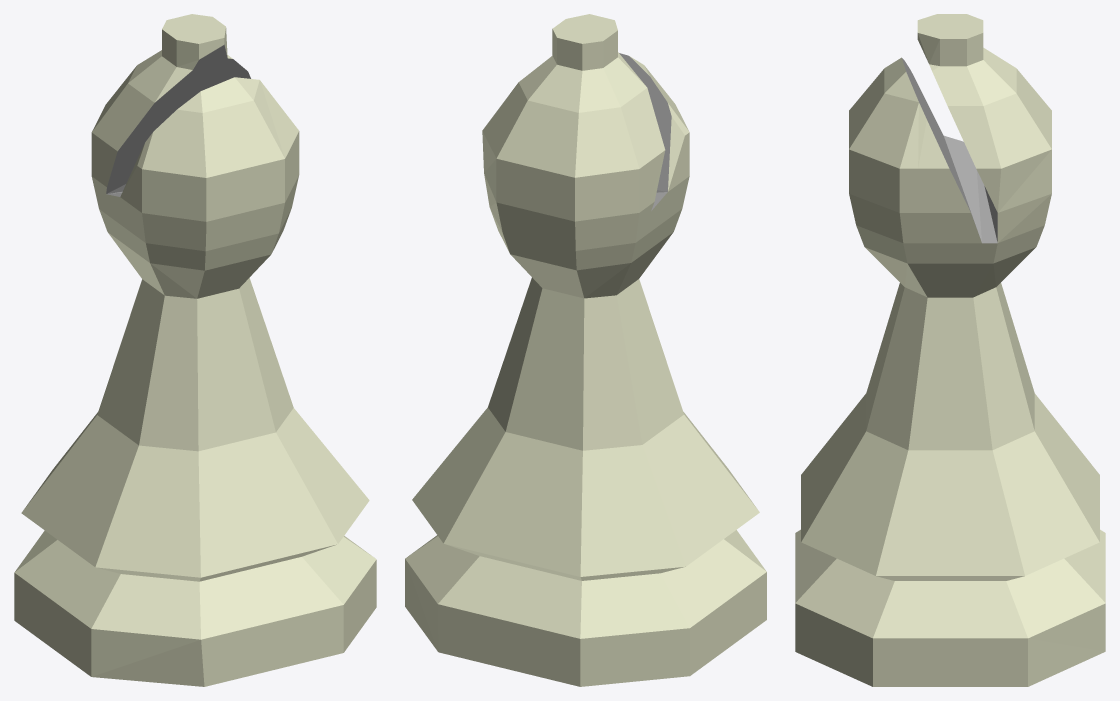
Rendered from Bishop.fbx.
3 renders of one model, left to right at view 1: azimuth 30°, elevation 25°; view 2: azimuth 150°, elevation 25°; view 3: azimuth 270°, elevation 25°, orthographic.
Parts seen in each view (by area): view 1: polySurface2; view 2: polySurface2; view 3: polySurface2.
Boxes of the visible parts, bbox=[...] form: polySurface2: bbox=[14, 14, 376, 686]; polySurface2: bbox=[405, 14, 766, 686]; polySurface2: bbox=[795, 14, 1105, 686].
Bounding box in the file's own units: 1 × 1.96 × 0.9344.
